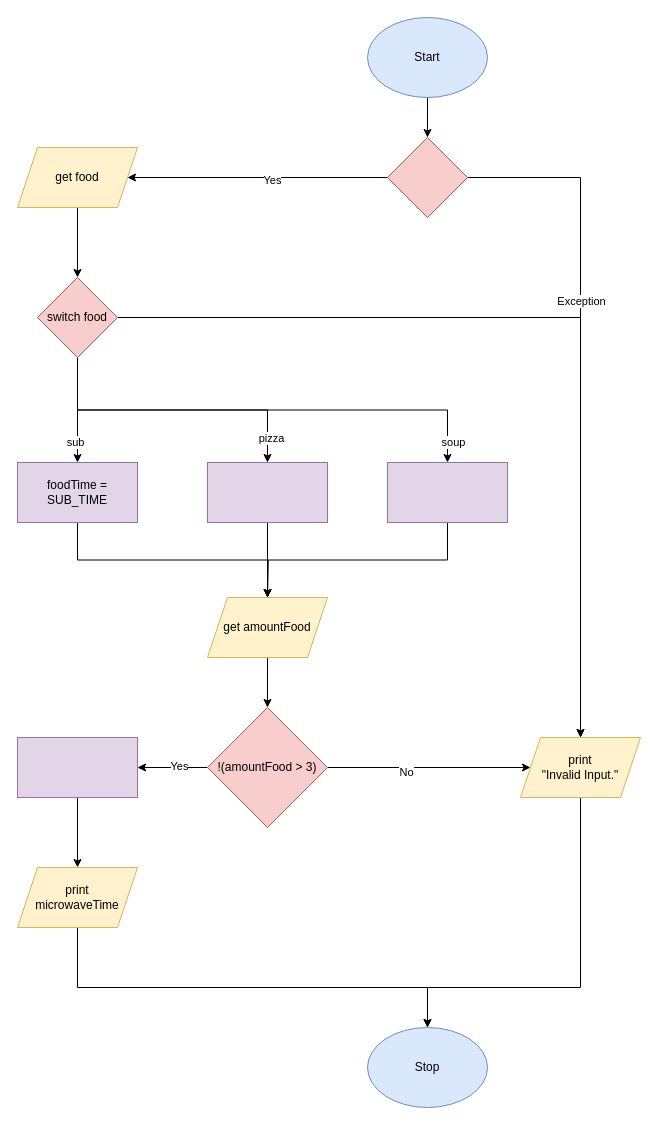
Image size: 658x1125. Some labels were removed from this diagram. The shapes that lost their labels are listed below. From the top down, each one's centre as x and y in pixels, then its label:
At point (427, 177): "try".
At point (267, 492): "foodTime = PIZZA_TIME".
At point (447, 492): "foodTime = SOUP_TIME".
At point (77, 767): "microwaveTime = amountFood * foodTime".
